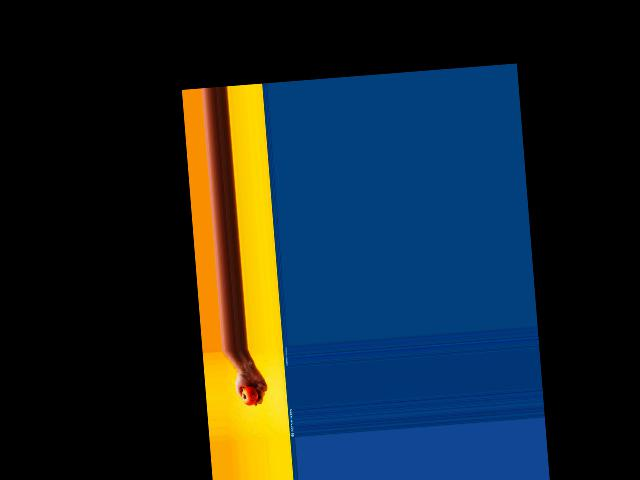tomato: (241, 385, 259, 405)
